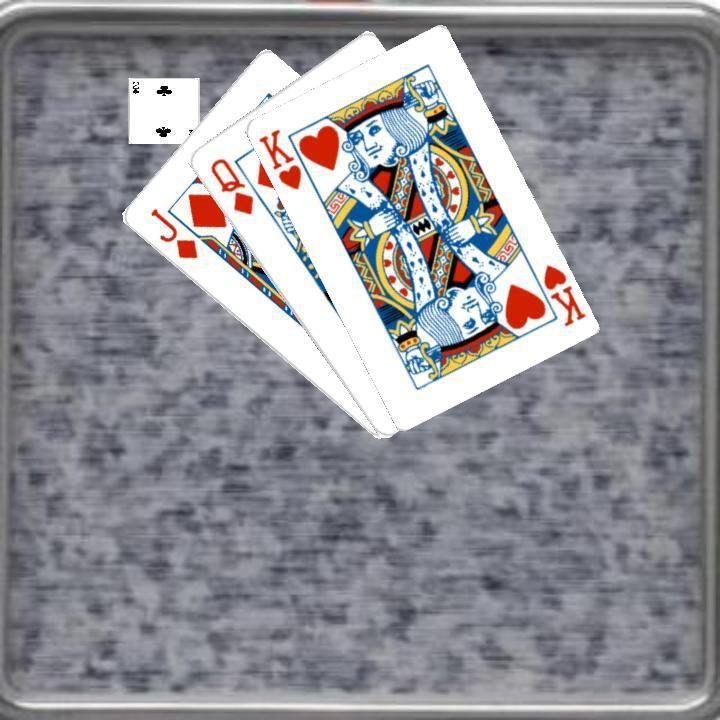J: (145, 204, 199, 262)
K: (537, 259, 587, 328), (253, 124, 303, 192)
Q: (205, 153, 256, 217)
